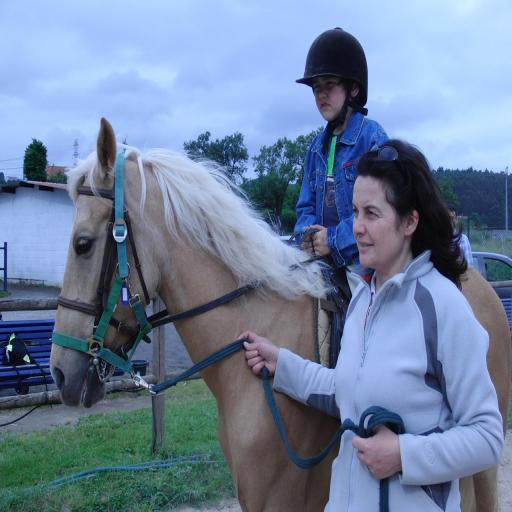horse: (47, 114, 512, 512)
